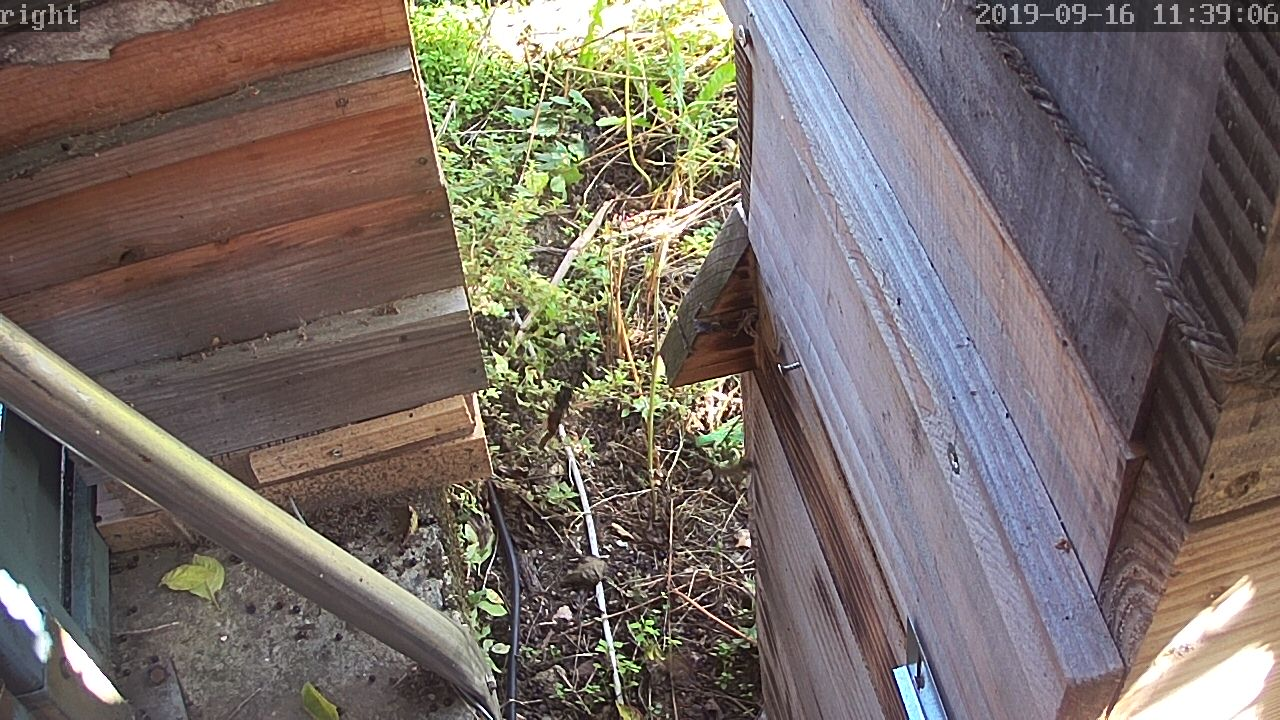hornet: (538, 384, 582, 438)
